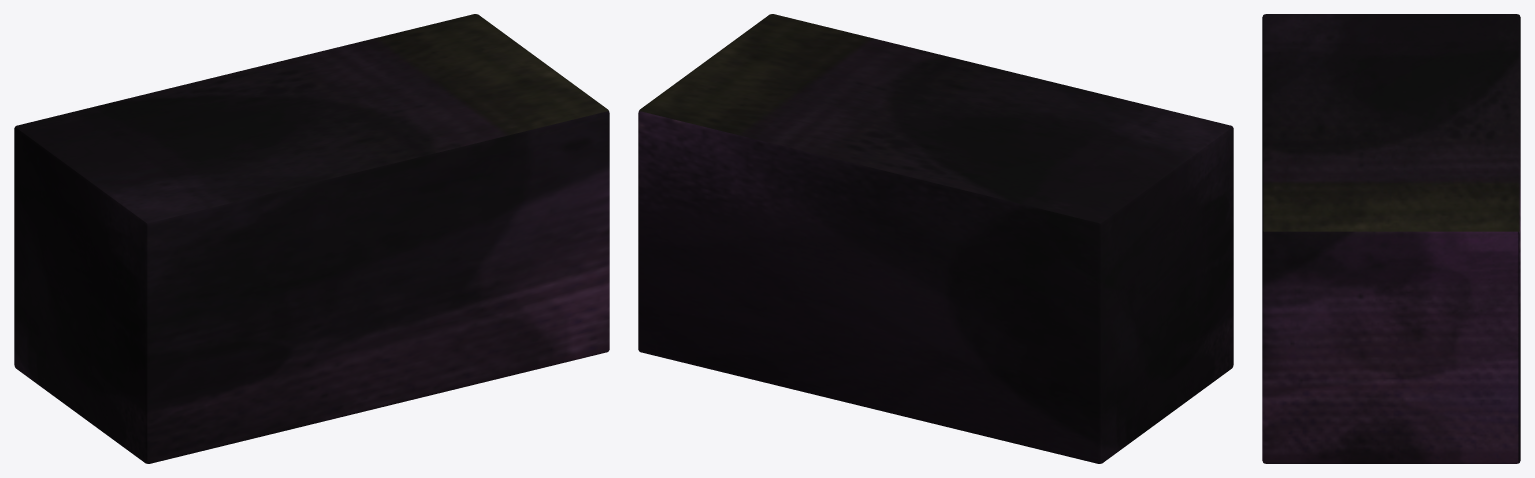
Rendered from MANOR_GROUND_2_001.obj.
3 views of the same model, side by side, from view 1: azimuth 30°, elevation 25°; view 2: azimuth 150°, elevation 25°; view 3: azimuth 270°, elevation 25° (orthographic). The views are drawn at different scales.
Parts seen in each view (by area): view 1: MANOR_GROUND_2_001; view 2: MANOR_GROUND_2_001; view 3: MANOR_GROUND_2_001.
Boxes of the visible parts, x1,y1,x2,y2 form: MANOR_GROUND_2_001: (14,14,609,463); MANOR_GROUND_2_001: (638,14,1233,463); MANOR_GROUND_2_001: (1262,14,1520,463).
Bounding box in the file's own units: 2 × 1 × 1.
